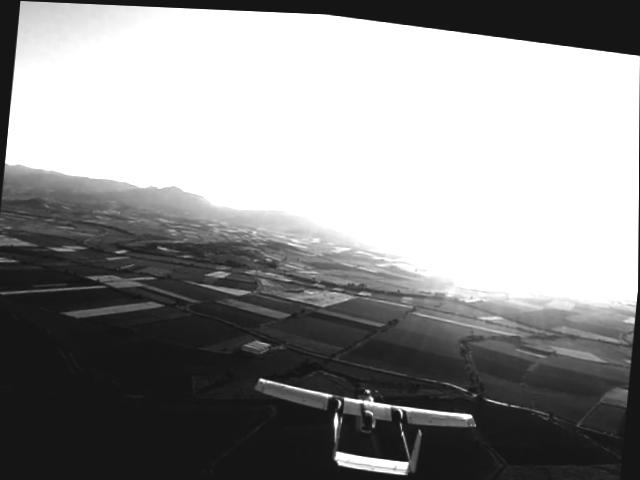hedef: (249, 361, 485, 480)
